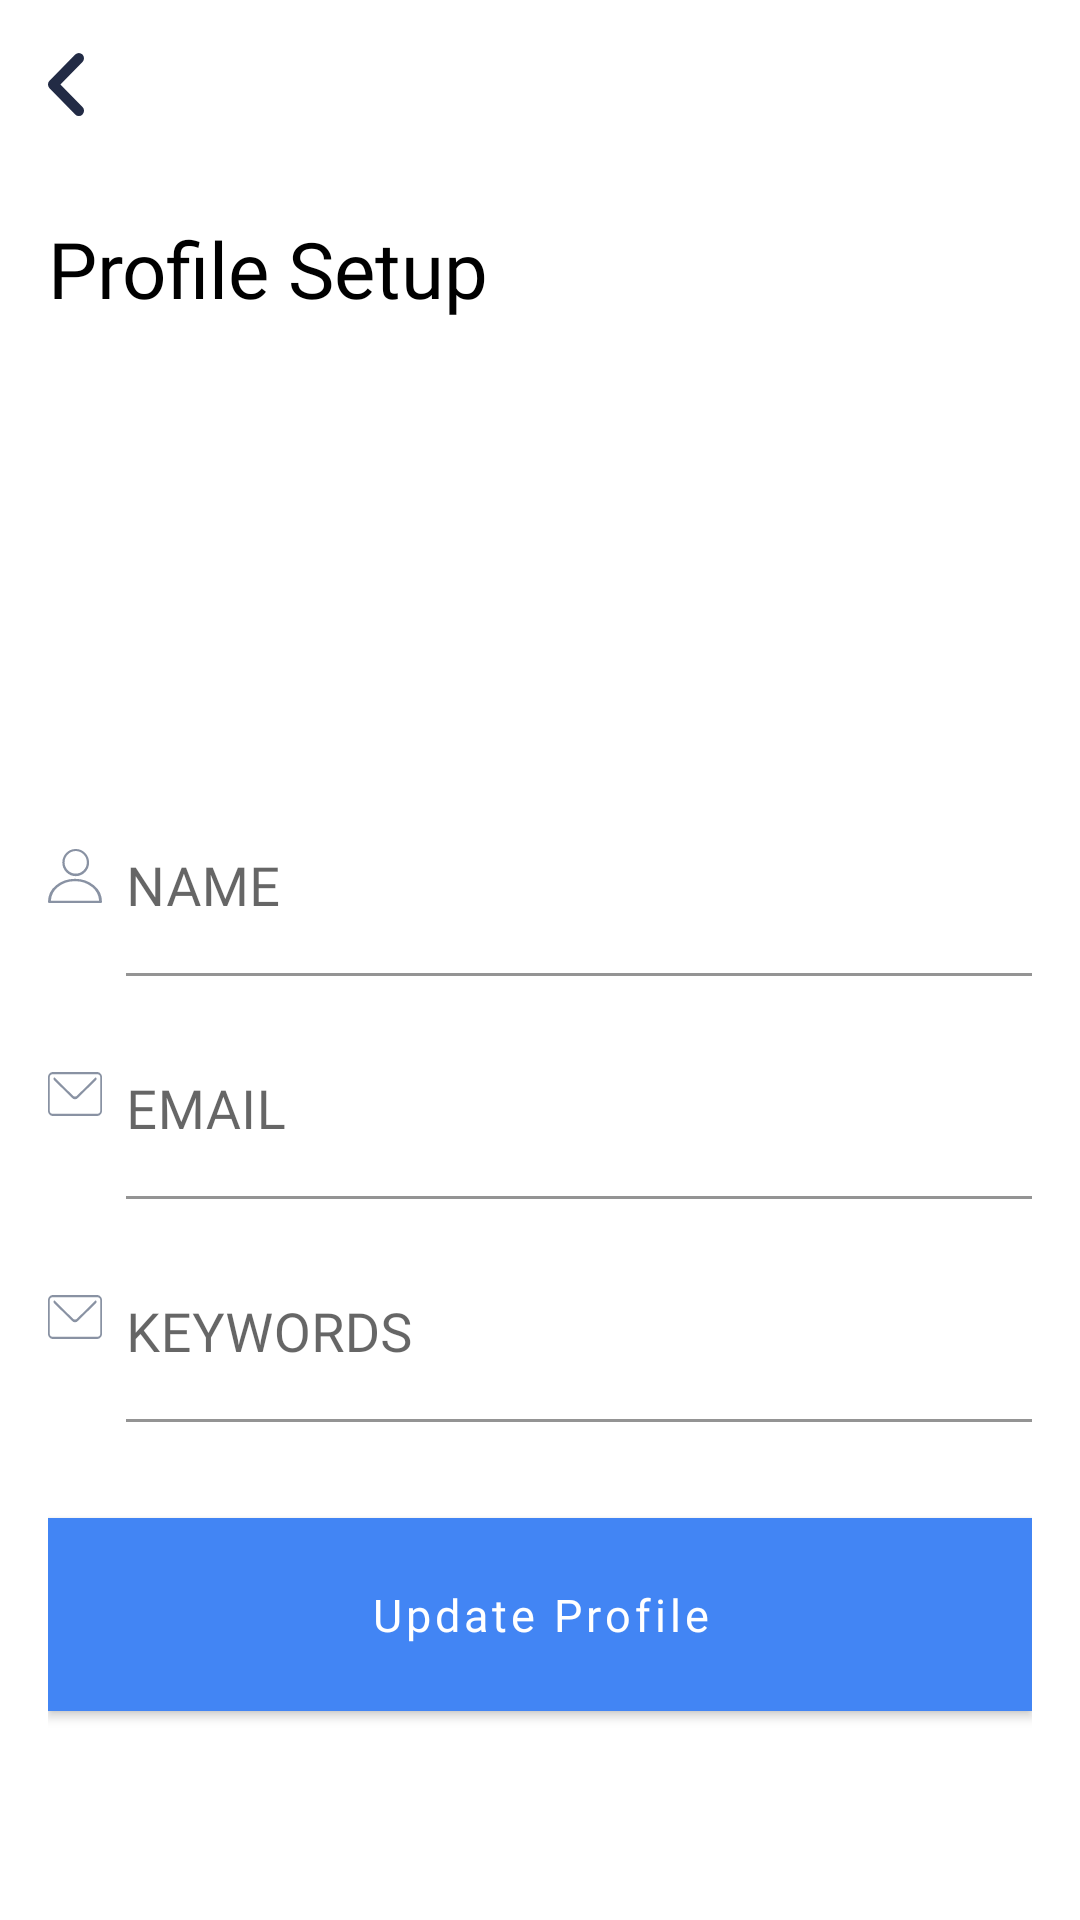

Point at icon controls on the screen. Image size 1080w x 1920h, points as [x,y].
back: [66,84]
